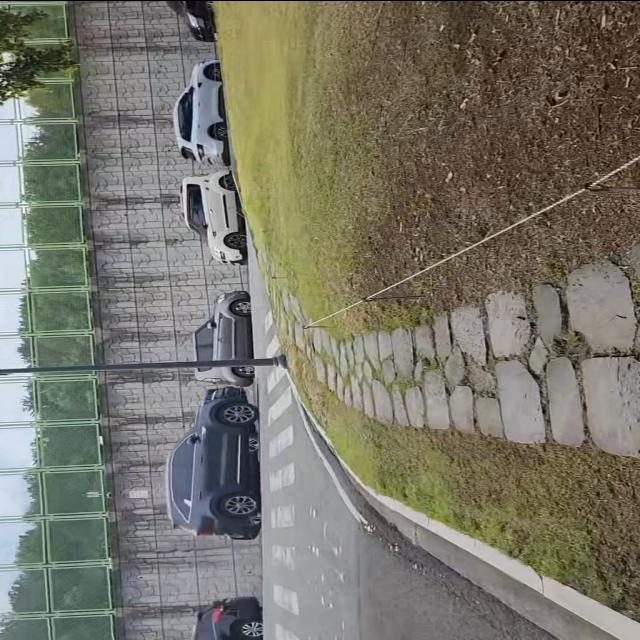obstacle: (162, 384, 270, 540), (176, 274, 260, 388), (170, 168, 254, 270), (185, 586, 263, 640)
road: (249, 235, 628, 640)
